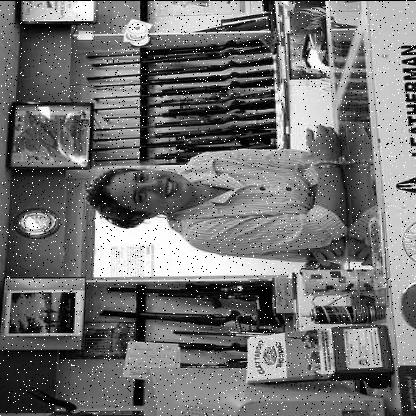rifle: (87, 302, 290, 337), (101, 274, 285, 308), (85, 29, 269, 59), (91, 72, 275, 101), (78, 131, 302, 151)
